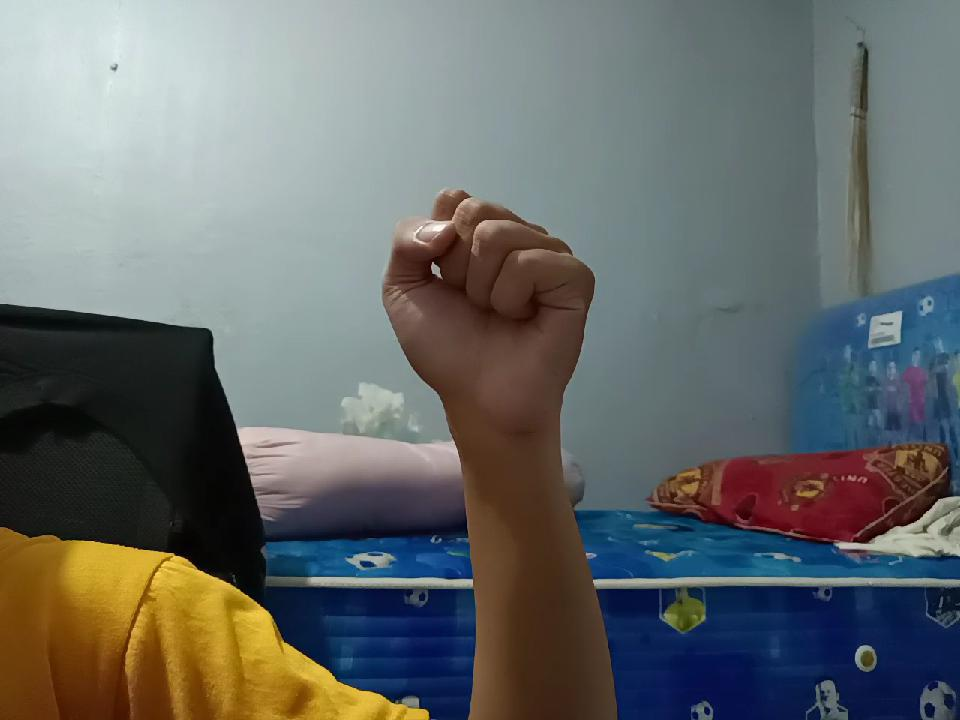rock: (382, 175, 592, 419)
